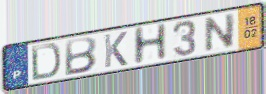3: (171, 19, 199, 59)
B: (63, 35, 99, 77)
D: (29, 42, 62, 83)
H: (131, 21, 169, 67)
K: (102, 30, 129, 70)
N: (203, 11, 237, 54)
